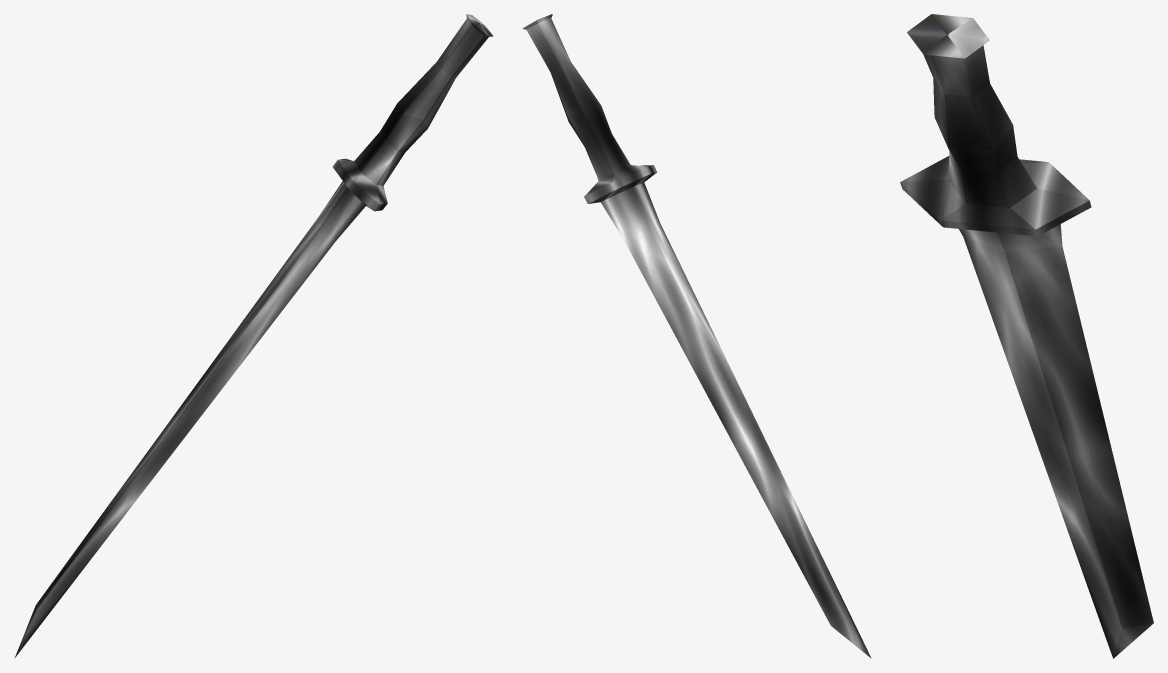
3 renders of one model, left to right at view 1: azimuth 30°, elevation 25°; view 2: azimuth 150°, elevation 25°; view 3: azimuth 270°, elevation 25°, orthographic. The views are drawn at different scales.
Visible parts, largest first — view 1: J3; view 2: J3; view 3: J3.
Part boxes in pixels (x1=…): J3: x1=15, y1=14, x2=492, y2=657; J3: x1=522, y1=14, x2=871, y2=658; J3: x1=900, y1=14, x2=1153, y2=658.
Size of the model in its own units: 1.84 by 2.35 by 0.5497.
